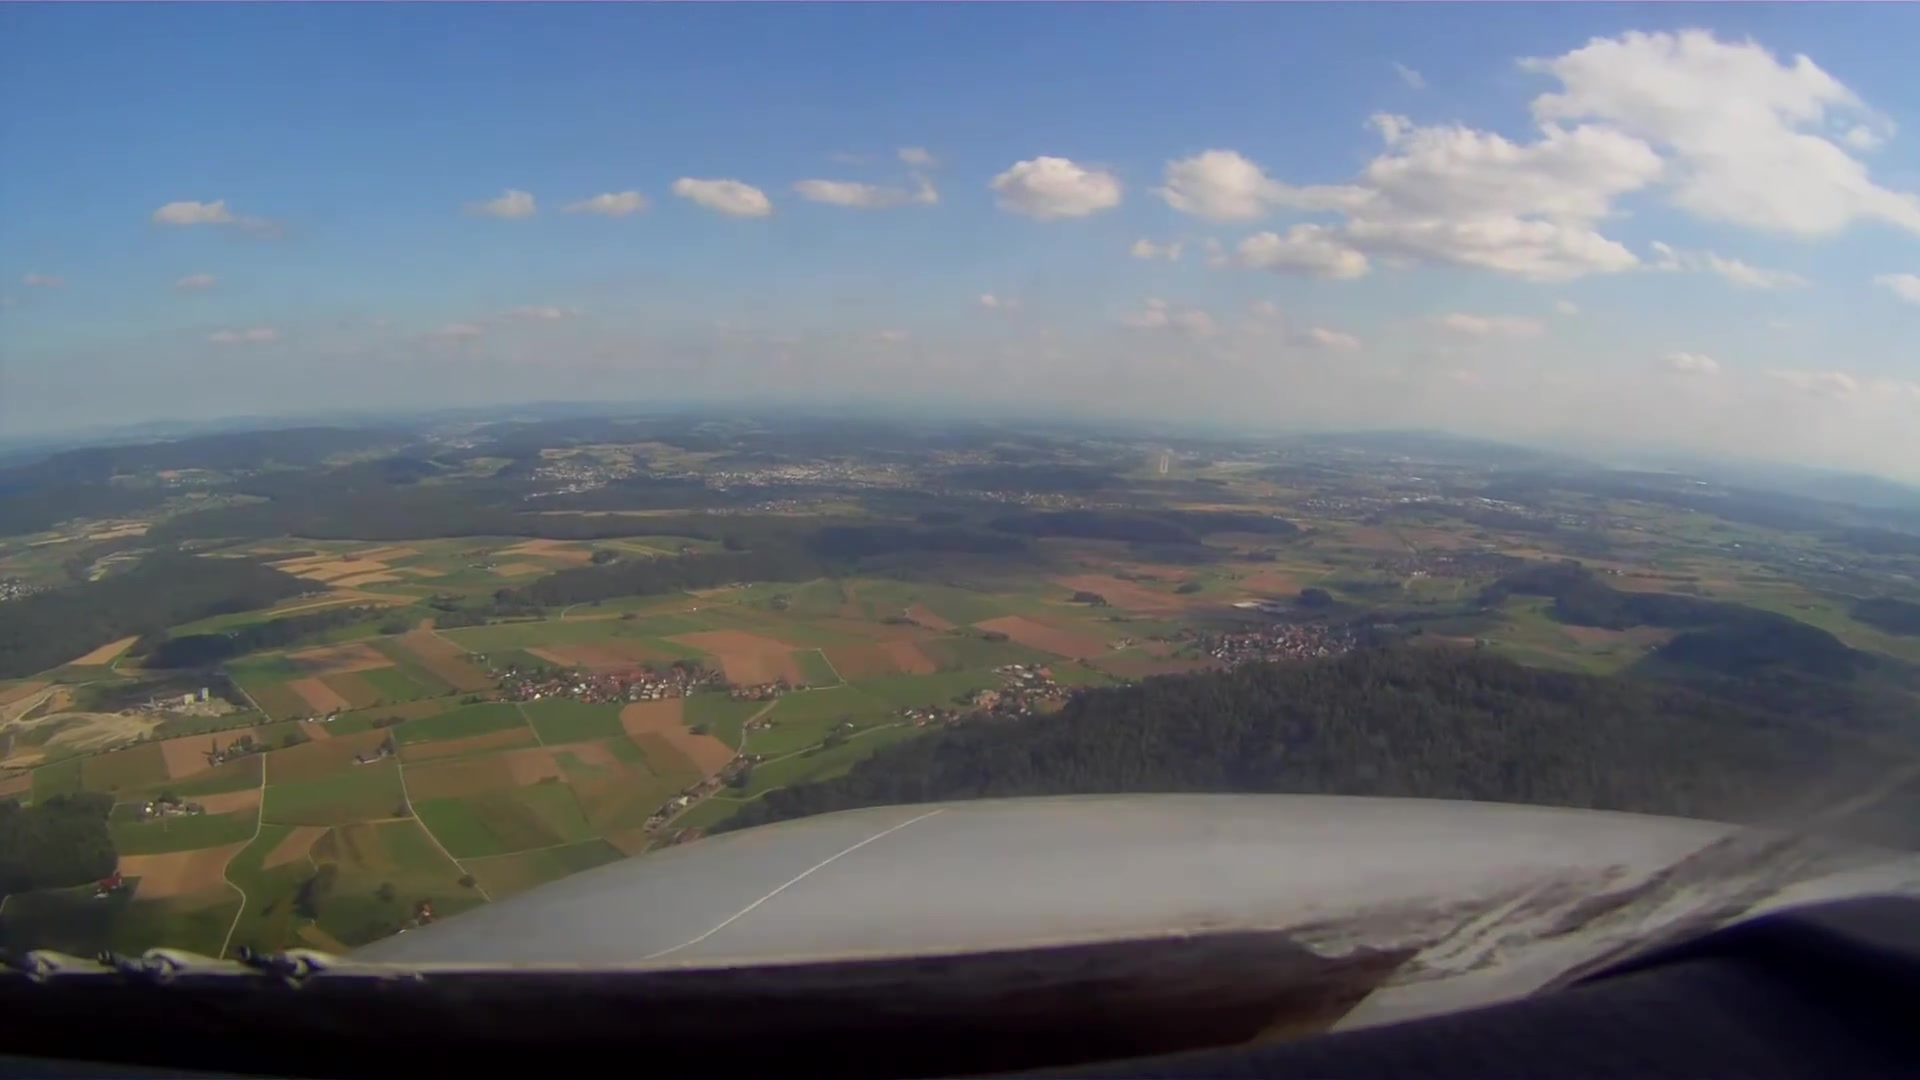runway: (1158, 454, 1170, 473)
